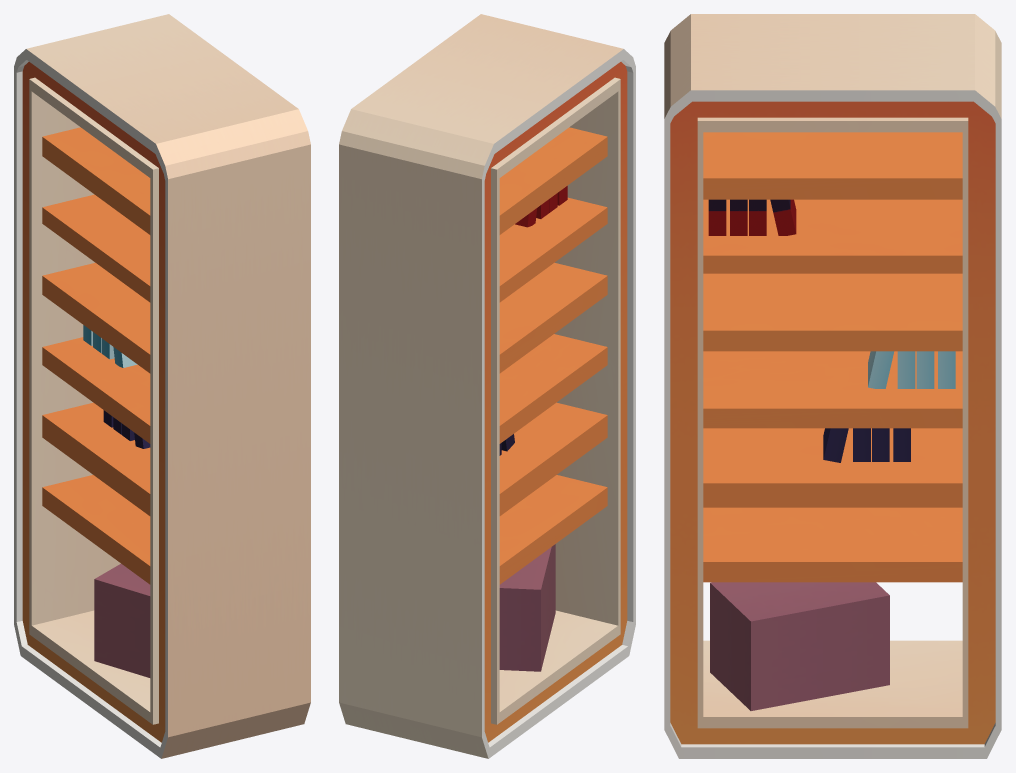
File: kast.fbx
3 renders of one model, left to right at view 1: azimuth 30°, elevation 25°; view 2: azimuth 150°, elevation 25°; view 3: azimuth 270°, elevation 25°, orthographic. The views are drawn at different scales.
Visible parts, largest first — view 1: Cube, Cube.001, Cube.005, Cube.003; view 2: Cube, Cube.001, Cube.002; view 3: Cube, Cube.001, Cube.005, Cube.002, Cube.003.
Boxes of the visible parts, <box> form: Cube: <box>14,14,310,758</box>; Cube.001: <box>94,563,150,677</box>; Cube.005: <box>83,325,137,367</box>; Cube.003: <box>103,410,150,448</box>; Cube: <box>339,14,635,758</box>; Cube.001: <box>499,544,555,671</box>; Cube.002: <box>515,186,567,227</box>; Cube: <box>664,14,1001,758</box>; Cube.001: <box>710,582,889,710</box>; Cube.005: <box>868,351,955,388</box>; Cube.002: <box>708,199,796,235</box>; Cube.003: <box>823,428,910,462</box>.
Size of the model in its own units: 107 by 438 by 200.
